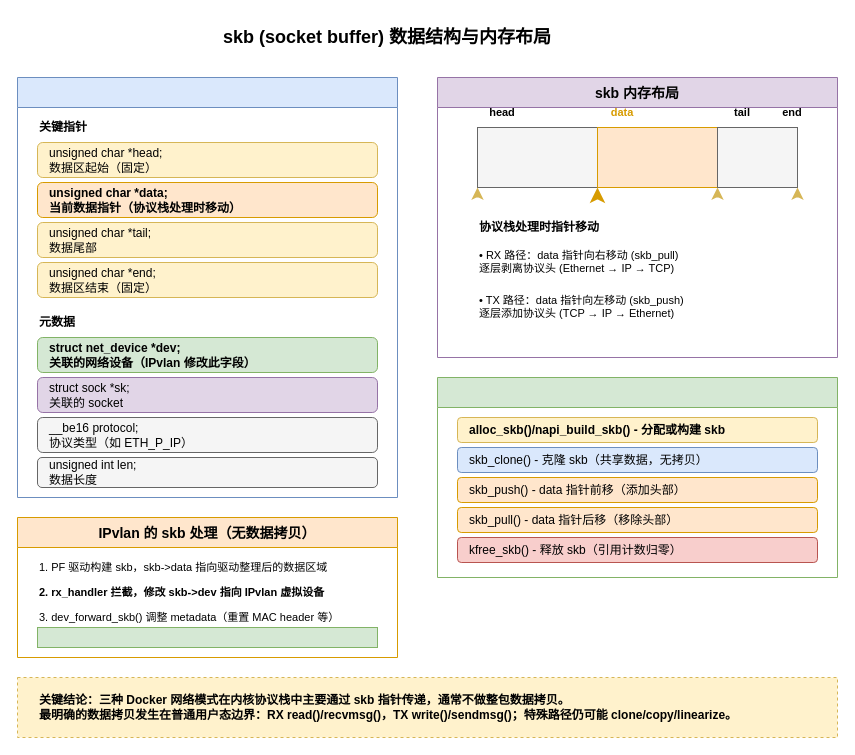
Some shapes in this 855 by 755 pixel diagram are drawn without their labels. The box of each missing label's shape, as (x1, y1, x2, y2) in pixels:
headroom (用于添加协议头): (476, 126, 598, 188)
struct sk_buff (skb): (16, 76, 398, 498)
tailroom (预留空间): (716, 126, 798, 188)
✓ 主要调整 skb metadata 并转发，通常不做整包数据拷贝: (36, 626, 378, 648)
关键操作函数: (436, 376, 838, 578)
数据区 (实际网络数据): (596, 126, 718, 188)
